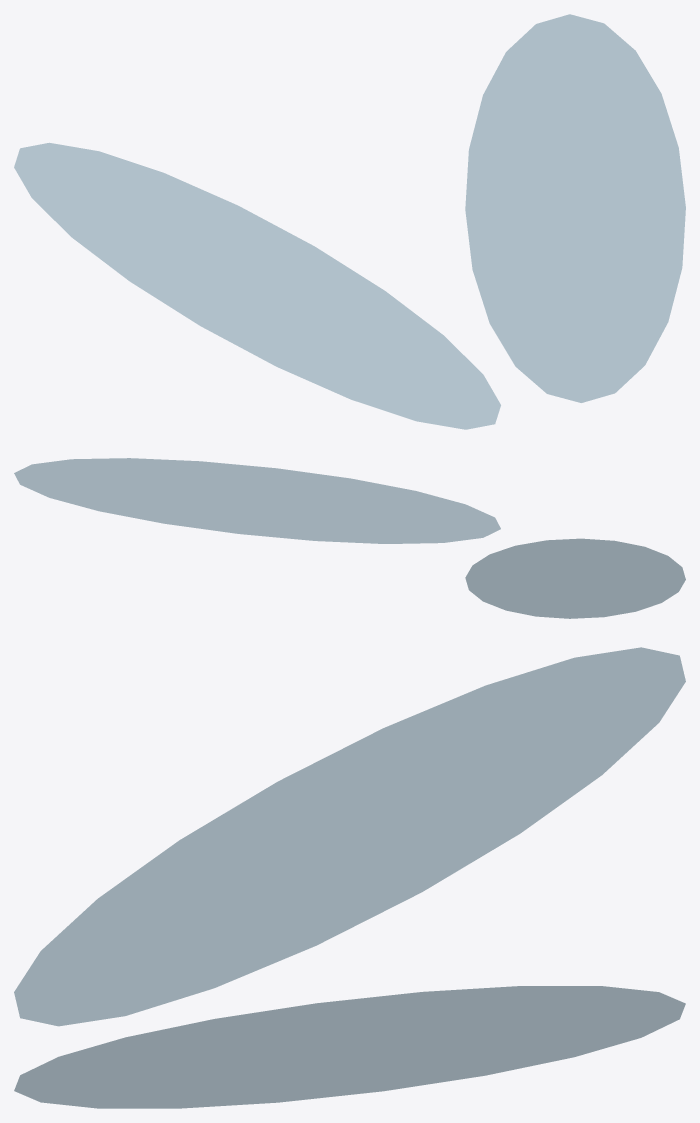
File: ling-wings.obj
3 renders of one model, top to bottom at view 1: azimuth 30°, elevation 25°; view 2: azimuth 150°, elevation 25°; view 3: azimuth 270°, elevation 25°, orthographic. The views are drawn at different scales.
Parts seen in each view (by area): view 1: wings; view 2: wings; view 3: wings.
Boxes of the visible parts, x1,y1,x2,y2 form: wings: (14,14,685,429); wings: (14,458,685,618); wings: (14,647,685,1108).
Bounding box in the file's own units: 84.04 × 20.52 × 59.73.
